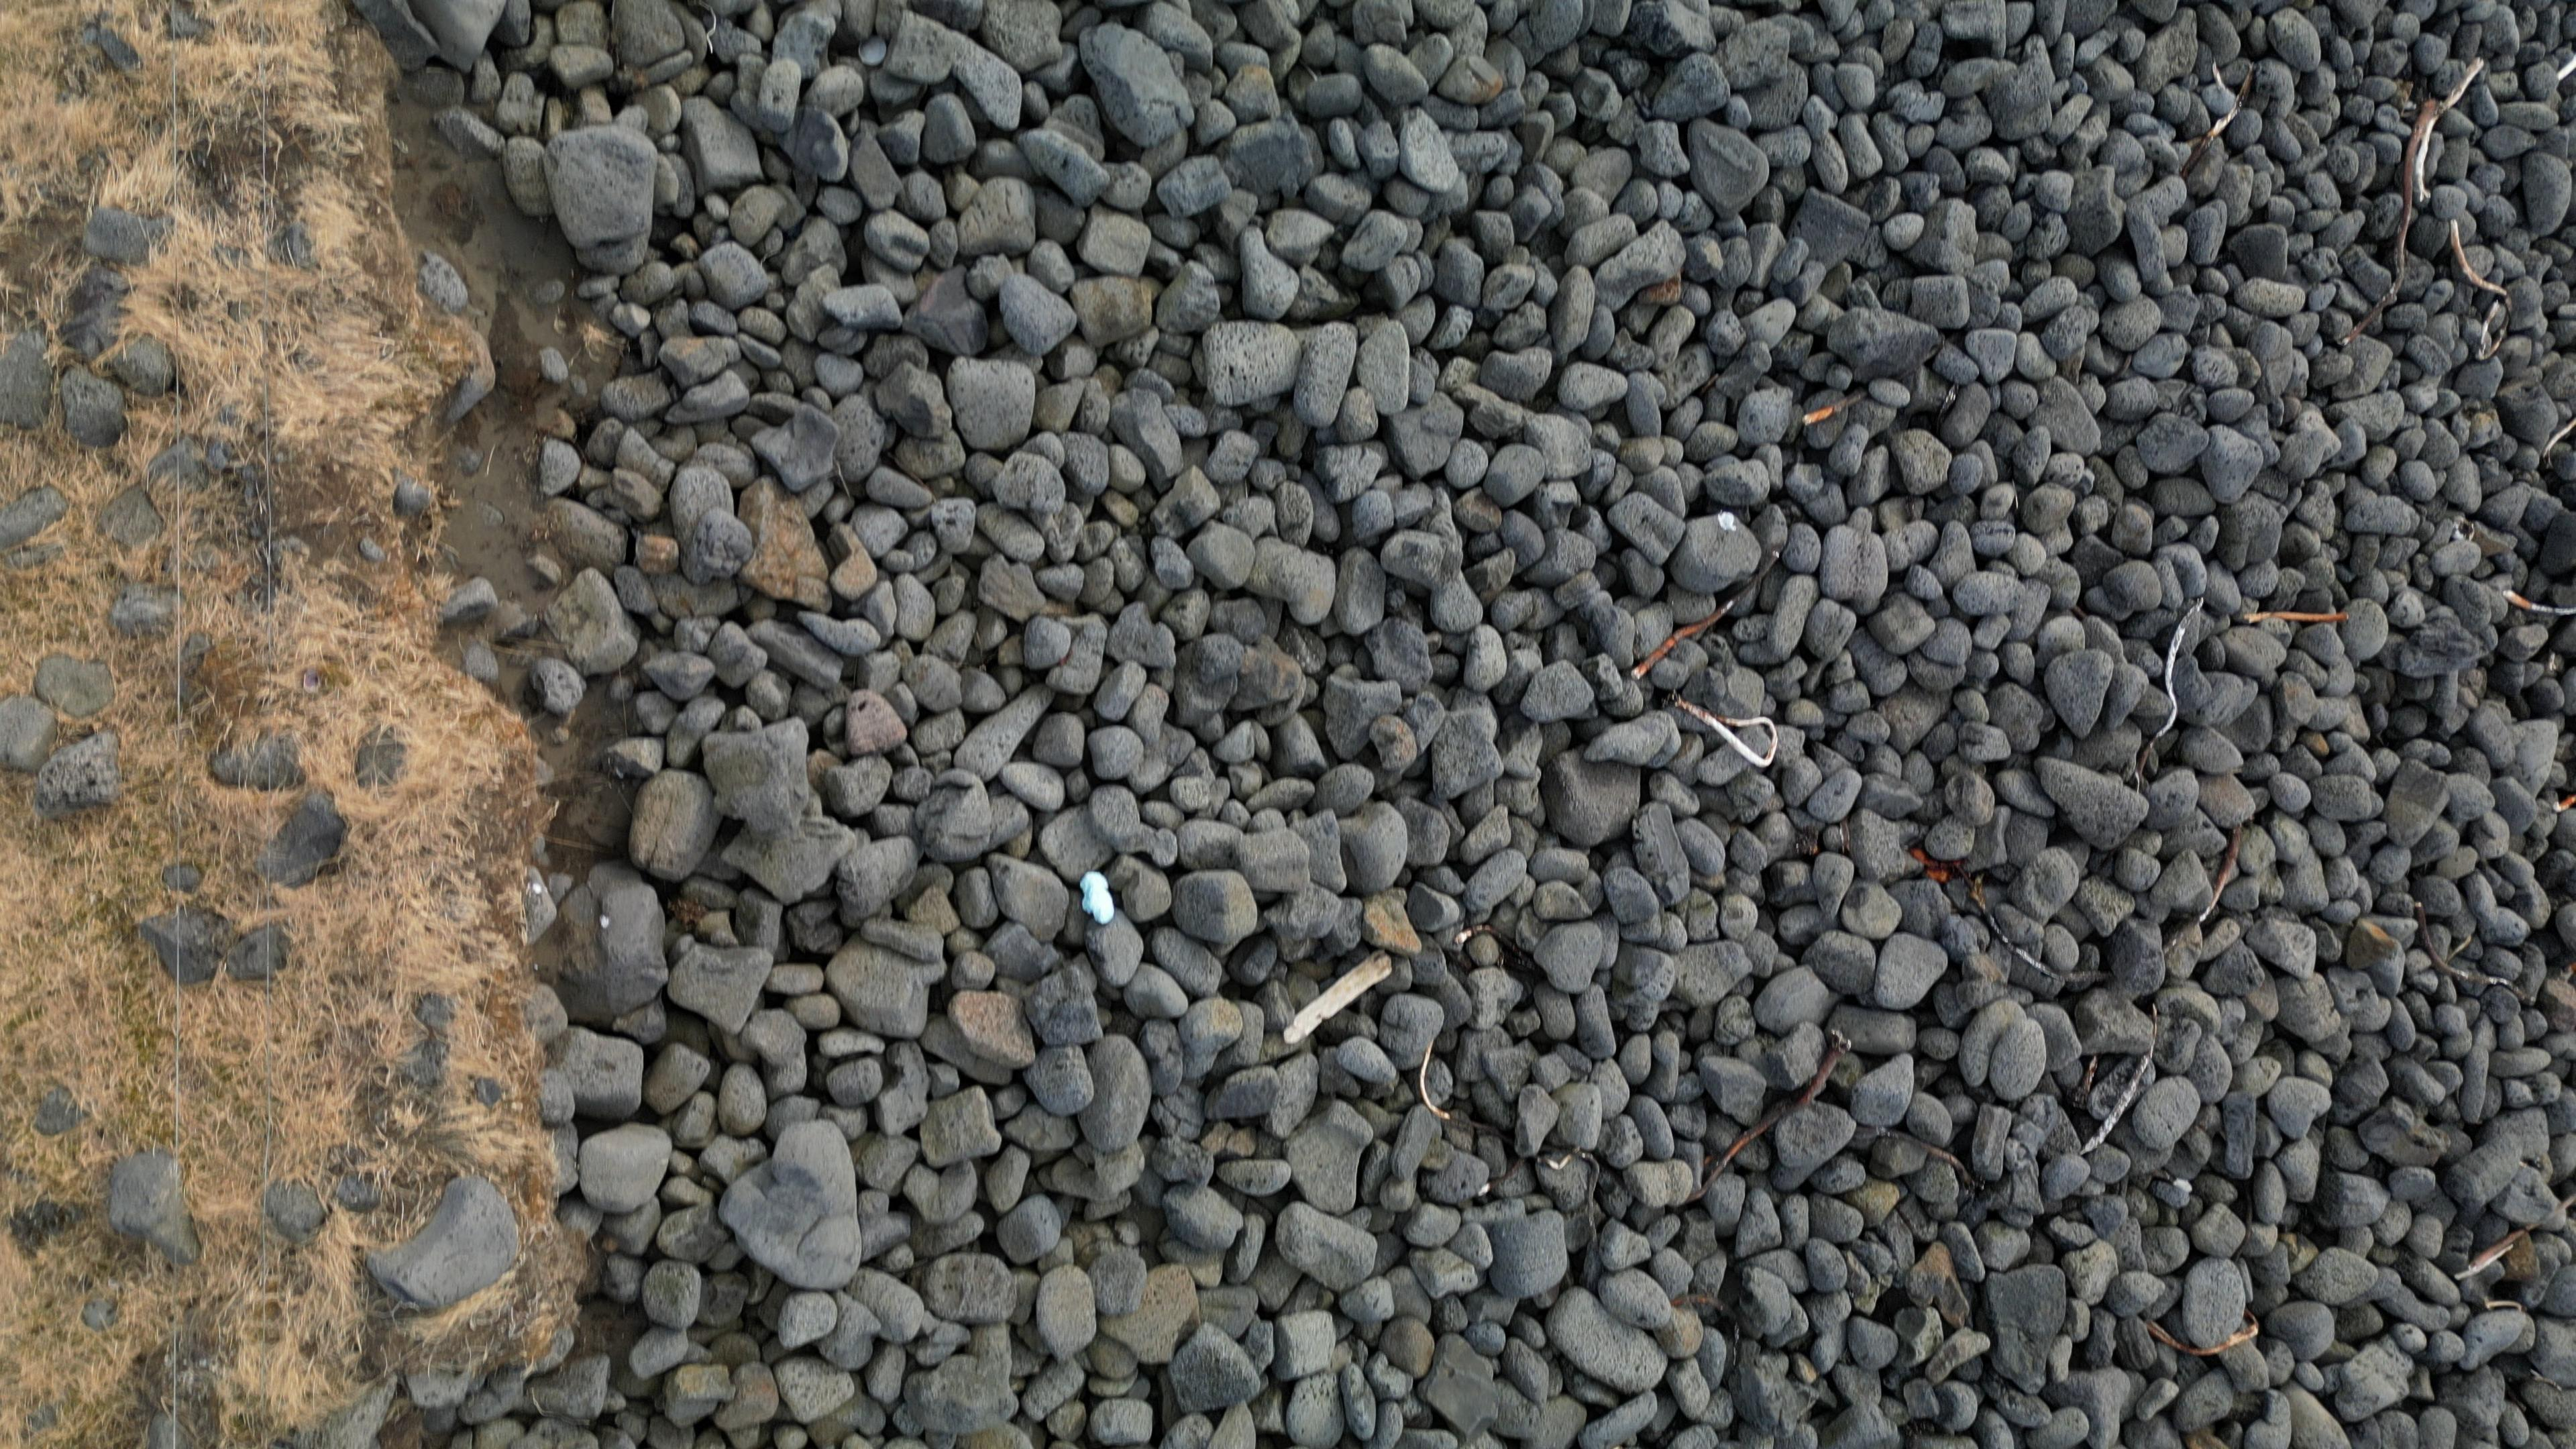trash: (1081, 871, 1117, 926)
